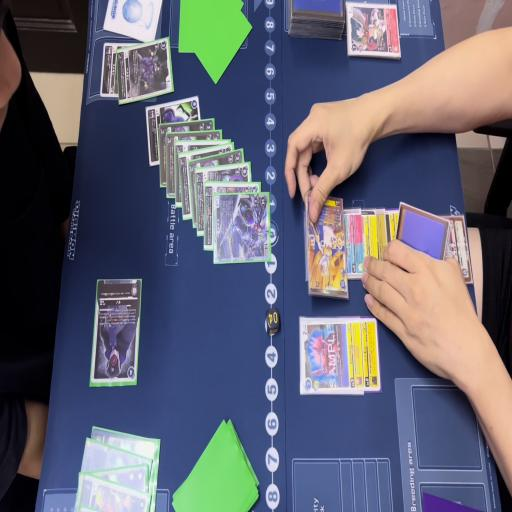card: (90, 278, 145, 390), (297, 313, 364, 394), (116, 30, 176, 108), (307, 184, 347, 300), (212, 191, 272, 267), (189, 148, 245, 228), (92, 421, 164, 483), (194, 161, 251, 238), (202, 183, 262, 248), (144, 96, 197, 168), (160, 121, 214, 188), (347, 0, 402, 65), (79, 436, 154, 481), (432, 214, 476, 290), (81, 472, 147, 512), (90, 463, 152, 496), (362, 311, 384, 393), (345, 204, 365, 281), (99, 41, 118, 103), (363, 206, 378, 278), (179, 150, 191, 217), (376, 203, 386, 277), (164, 131, 175, 193), (174, 138, 183, 206)
